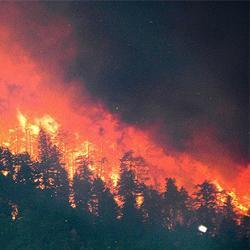fire: (19, 114, 58, 134), (74, 146, 94, 159)
